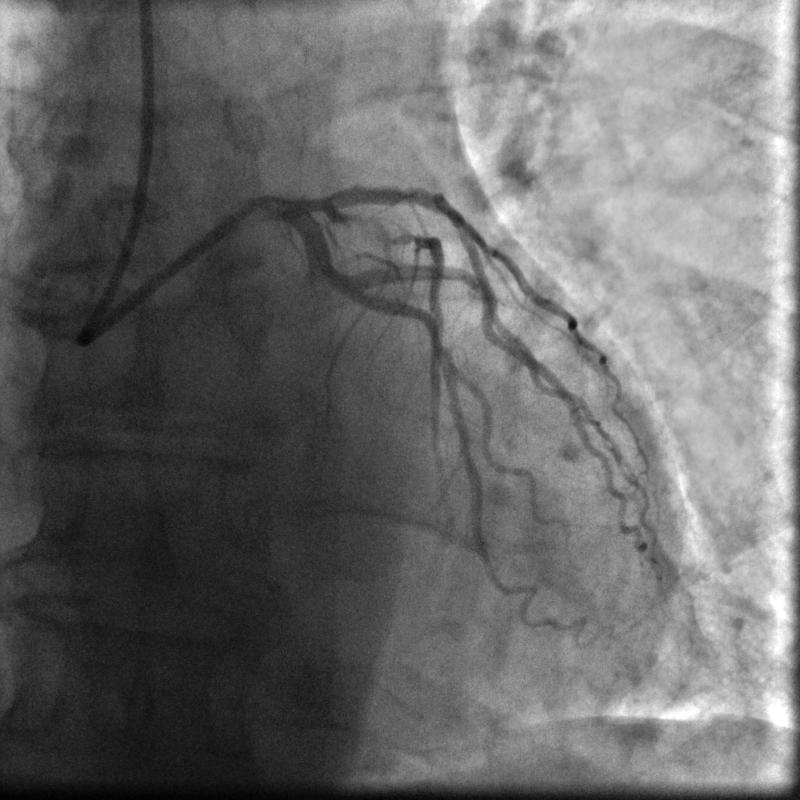Stenosis: (338, 206, 413, 250)
